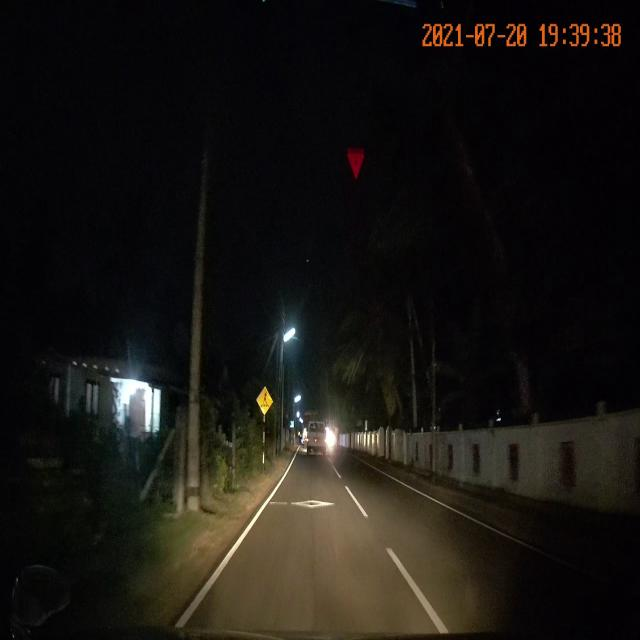diamond: (236, 486, 379, 534)
